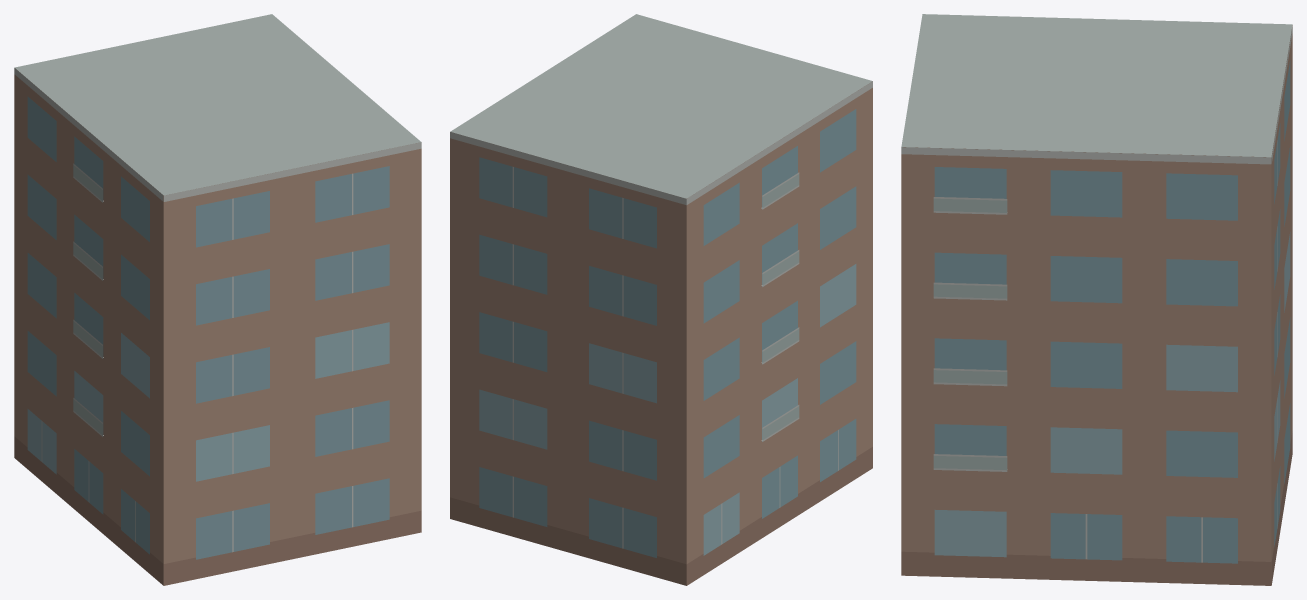
Rendered from survey-upis-32894381.glb.
The picture shows the model from 3 angles, left to right: view 1: azimuth 30°, elevation 25°; view 2: azimuth 150°, elevation 25°; view 3: azimuth 270°, elevation 25°; orthographic projection. The views are drawn at different scales.
Parts seen in each view (by area): view 1: survey-upis-32894381.tmp; view 2: survey-upis-32894381.tmp; view 3: survey-upis-32894381.tmp.
Boxes of the visible parts, box(x1,y1,x2,y2) form: survey-upis-32894381.tmp: box(14, 14, 421, 585); survey-upis-32894381.tmp: box(450, 14, 872, 585); survey-upis-32894381.tmp: box(901, 14, 1292, 585).
Bounding box in the file's own units: 10.4 × 14.5 × 12.01.
